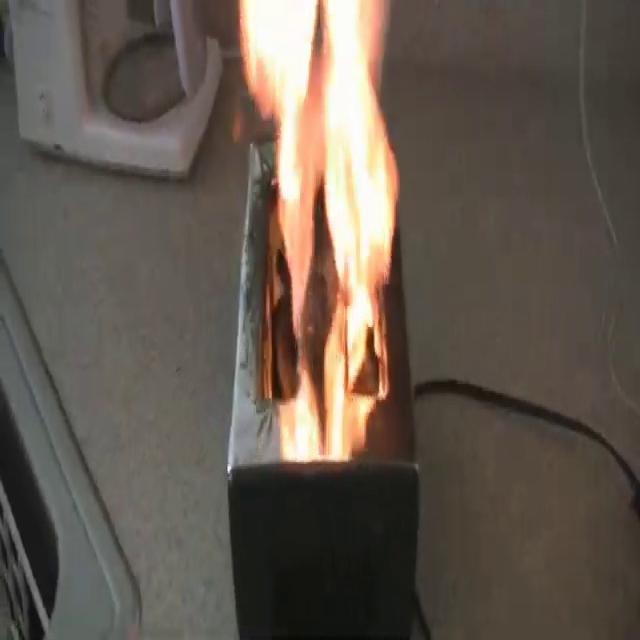fire: (234, 0, 405, 460)
